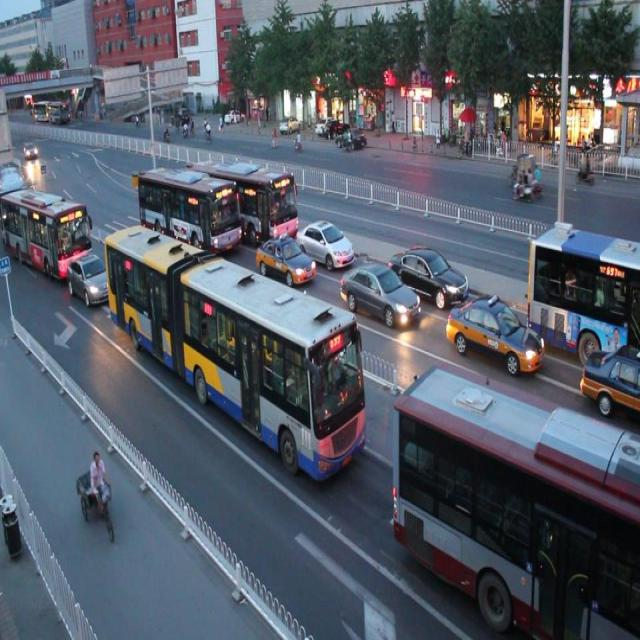car: (446, 294, 544, 382), (337, 258, 416, 331), (390, 243, 468, 309), (579, 340, 640, 403), (253, 230, 314, 289), (294, 214, 352, 273), (68, 250, 116, 308)
van: (102, 218, 366, 482), (390, 364, 640, 640), (525, 228, 640, 356), (136, 160, 240, 262), (191, 153, 298, 248), (1, 182, 90, 272)
